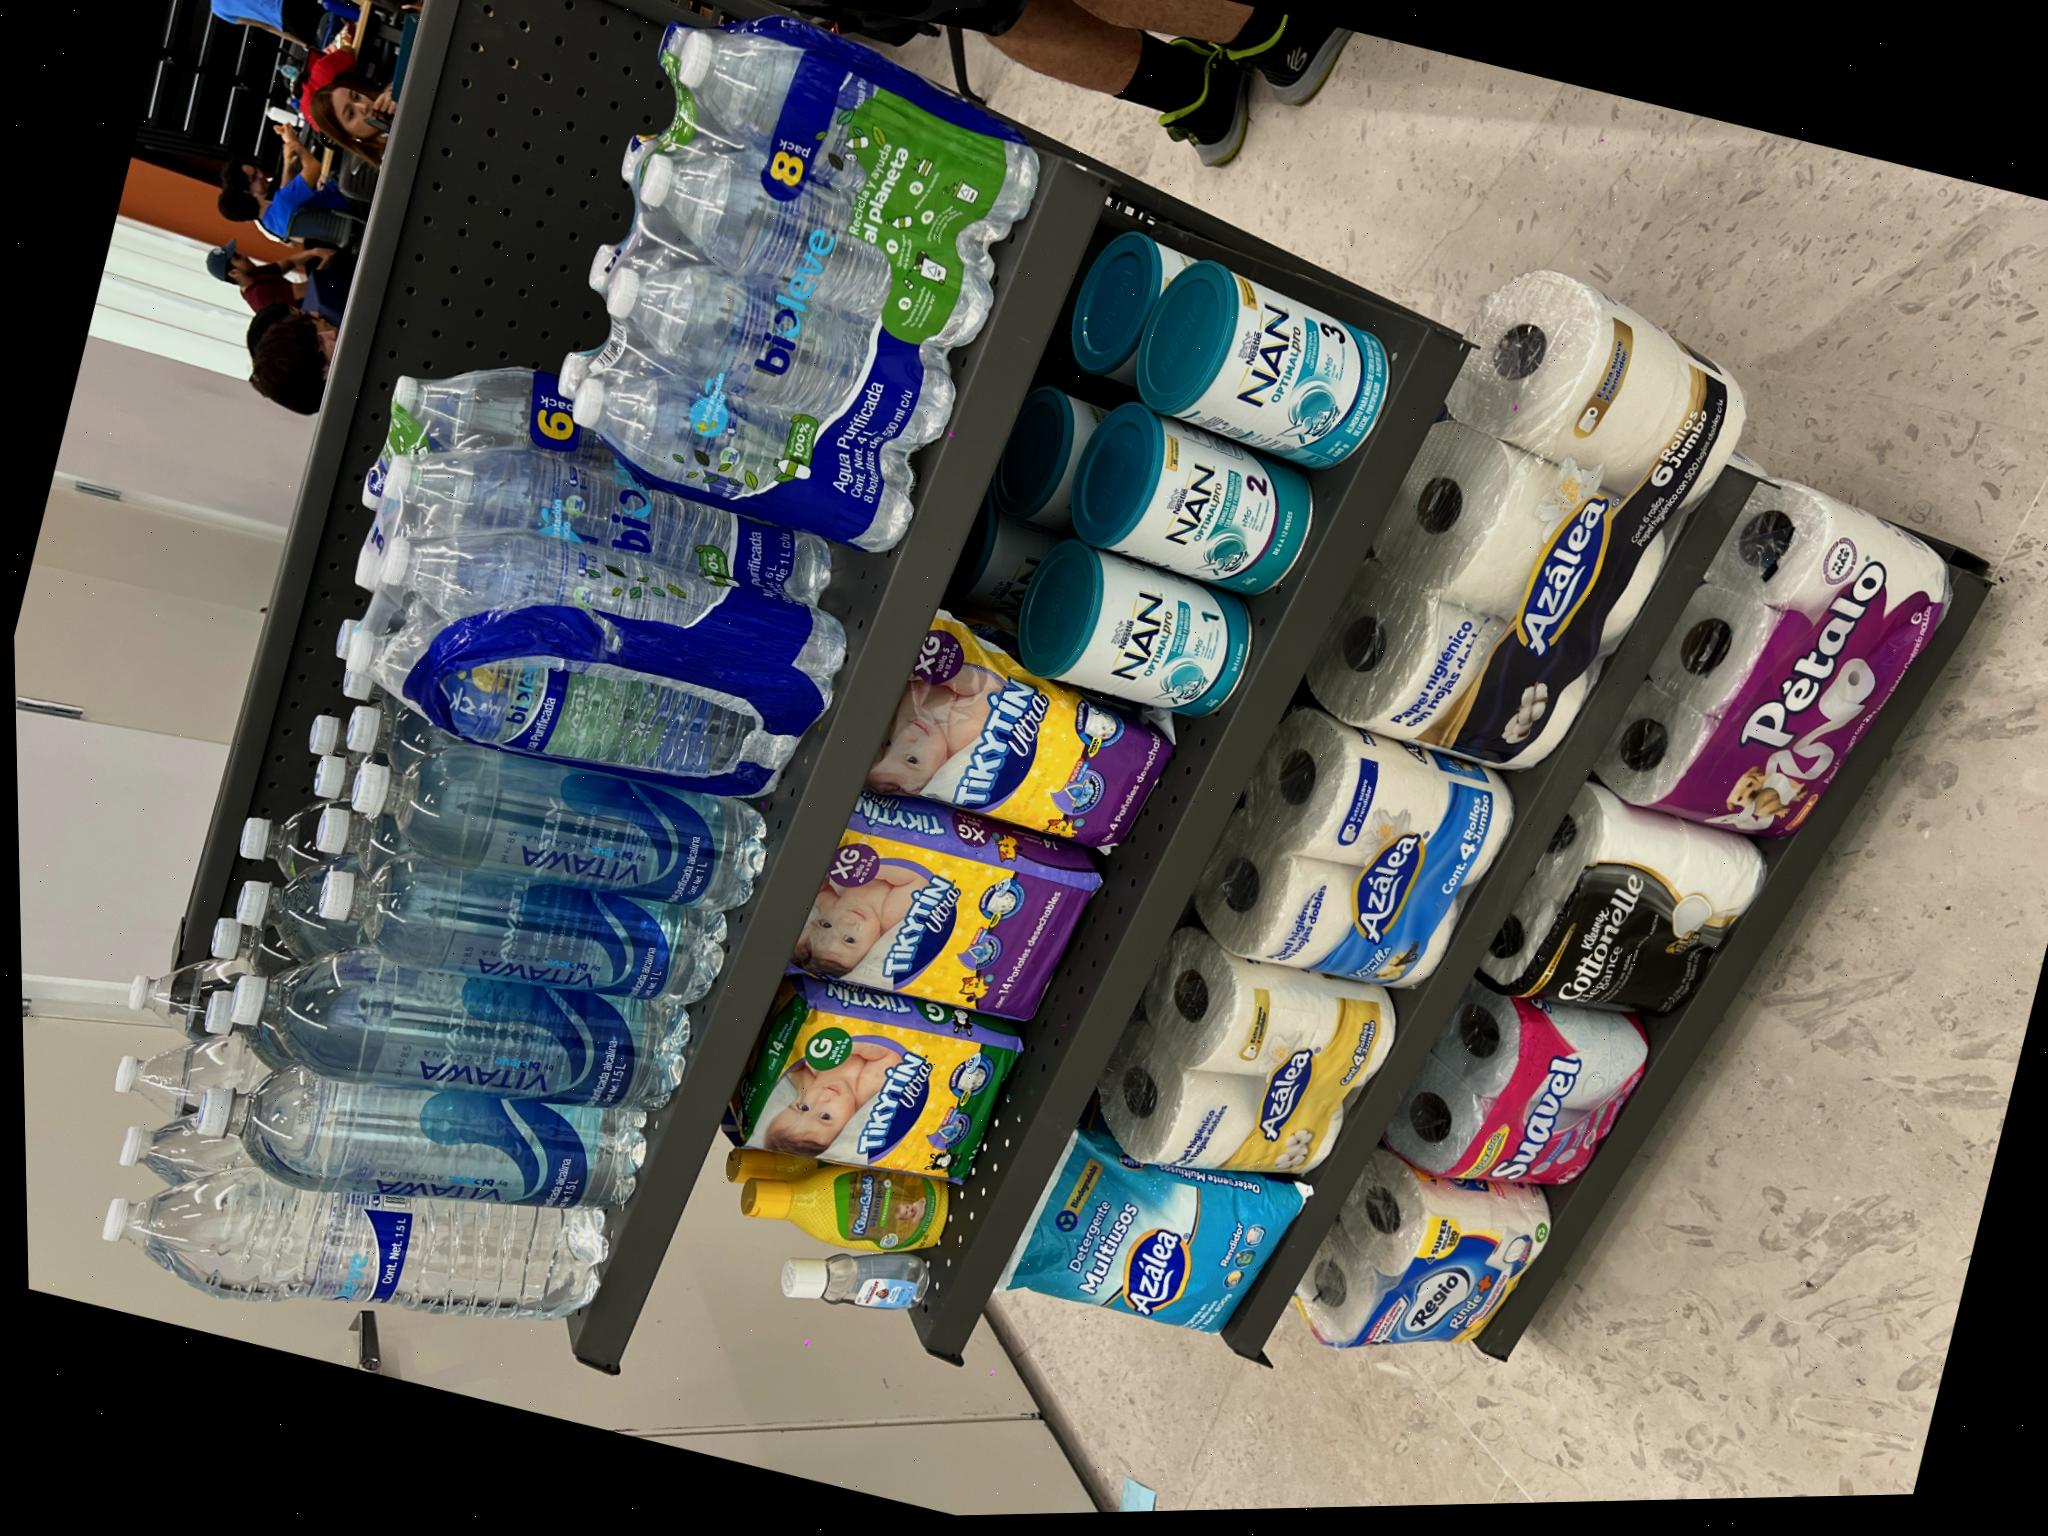aceite_bebe_mennen: (166, 673, 218, 821)
agua_bioleve: (150, 0, 292, 494)
agua_bioleve_6pack: (932, 439, 1490, 947), (676, 231, 1093, 728)
agua_vitawa_1L: (568, 234, 743, 657), (476, 202, 637, 623)
agua_vitawa_1_5L: (366, 118, 542, 586), (261, 77, 414, 532)
detergente_azaela: (140, 892, 329, 1200)
nan_nestle_1: (750, 904, 939, 1163)
nan_nestle_2: (879, 975, 1072, 1215)
nan_nestle_3: (1005, 1041, 1206, 1313)
panales_tikytin_extragrande: (619, 755, 861, 1068), (453, 676, 656, 986)
panales_tikytin_grande: (295, 637, 469, 907)
papelhigenico_azaela_6rollos: (701, 1260, 1180, 1515)
papelhigenico_azaela_amarillo: (302, 1034, 502, 1302)
papelhigenico_azaela_azul: (482, 1134, 729, 1412)
papelhigenico_regio: (129, 1229, 264, 1346)
shampoo_bebe: (223, 636, 308, 850)
